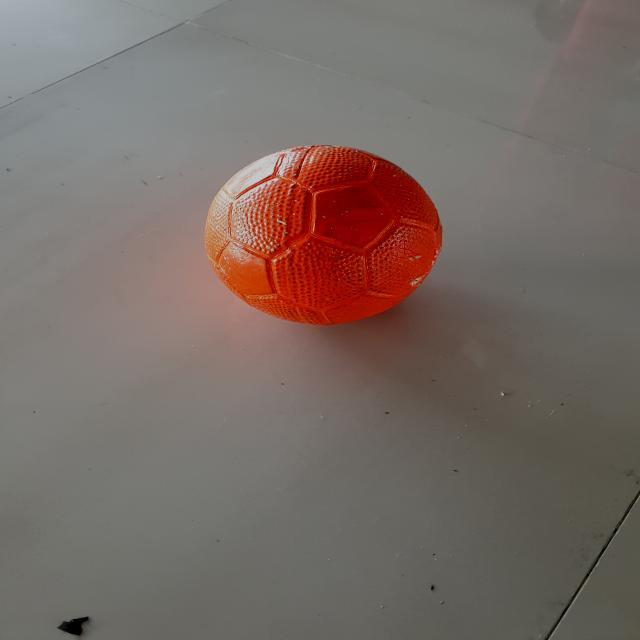bola: (170, 130, 460, 332)
